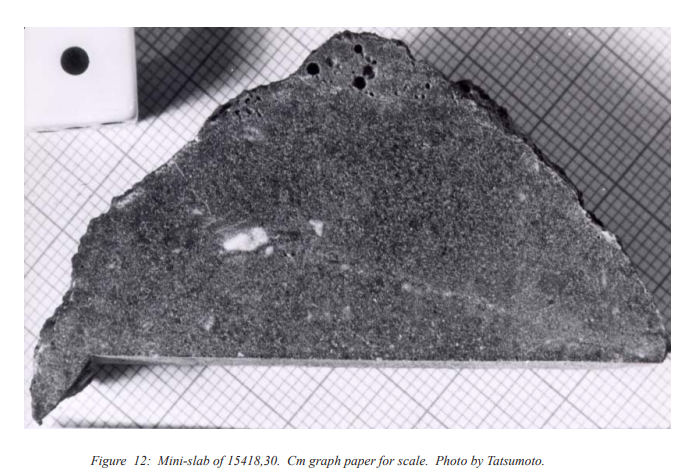Breccia: (25, 35, 674, 359), (175, 183, 588, 349)
